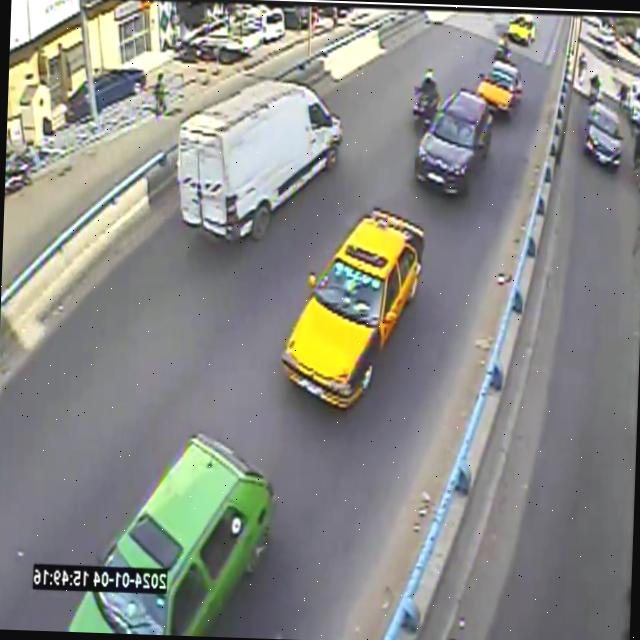car: (69, 432, 274, 635), (282, 209, 423, 407), (178, 79, 342, 240), (415, 90, 492, 192), (477, 60, 521, 113), (508, 13, 536, 45)
